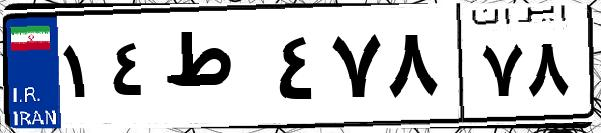1: (57, 26, 110, 100)
4: (270, 28, 330, 110), (110, 28, 158, 98)
7: (330, 28, 385, 110), (475, 38, 525, 113)
8: (385, 28, 445, 110), (525, 38, 570, 115)
ط: (158, 20, 270, 120)
